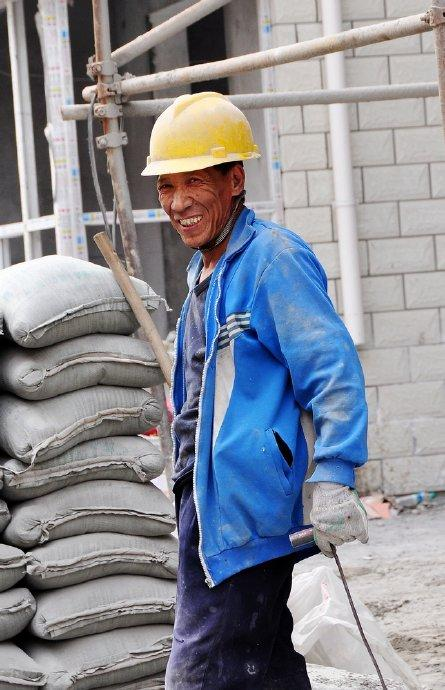helmet: (134, 90, 259, 178)
